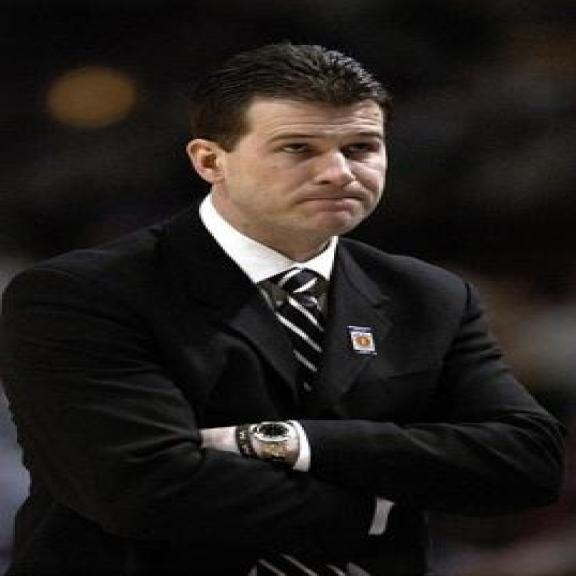face: (190, 103, 396, 245)
